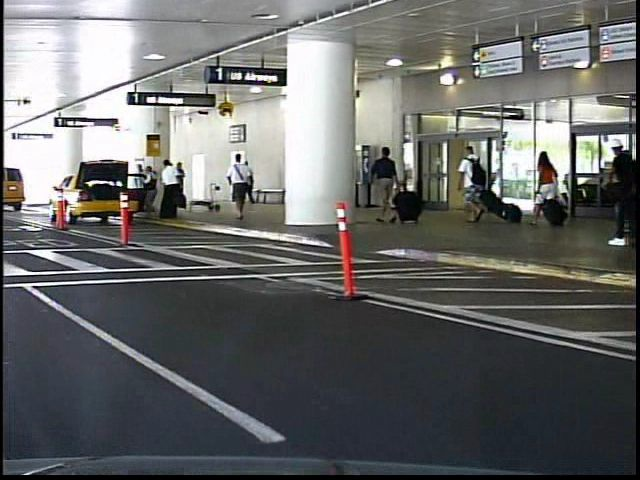person: (594, 137, 638, 249), (453, 140, 490, 225), (525, 143, 560, 229), (367, 142, 399, 227), (221, 147, 253, 220), (223, 162, 245, 210)
